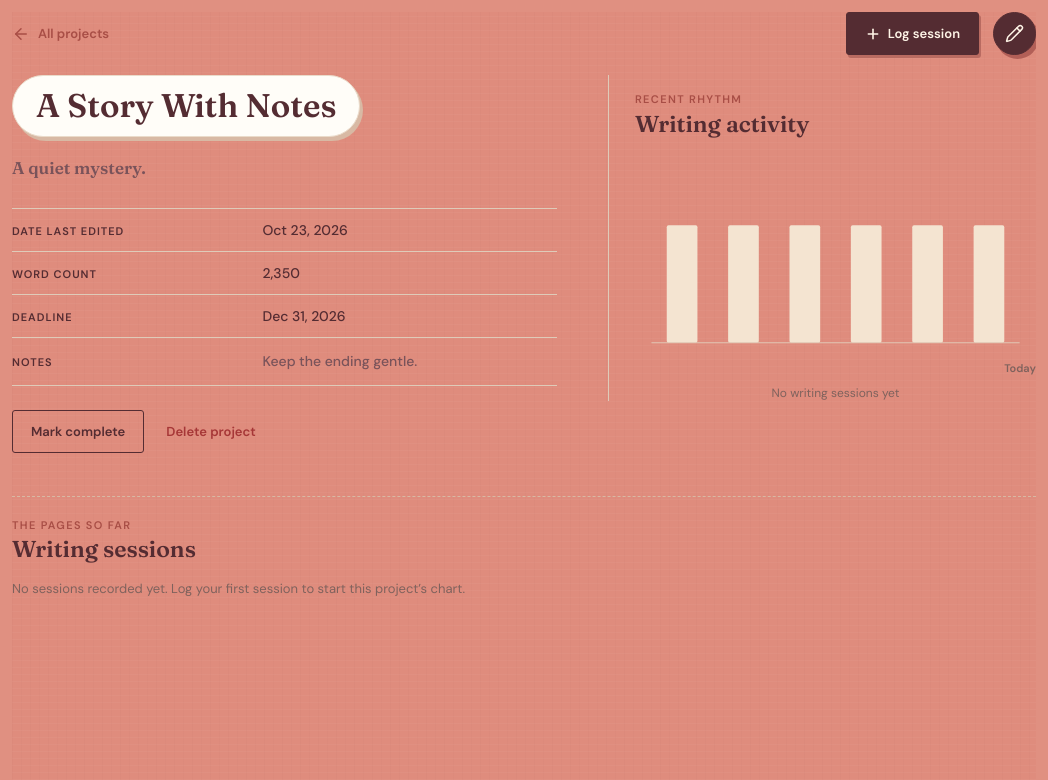
Test: ProjectDetail › reports a failed status change without claiming success
The width and height of the screenshot is (1048, 780).
Click the button "Mark complete" at (78, 431), box [12,410,144,453]
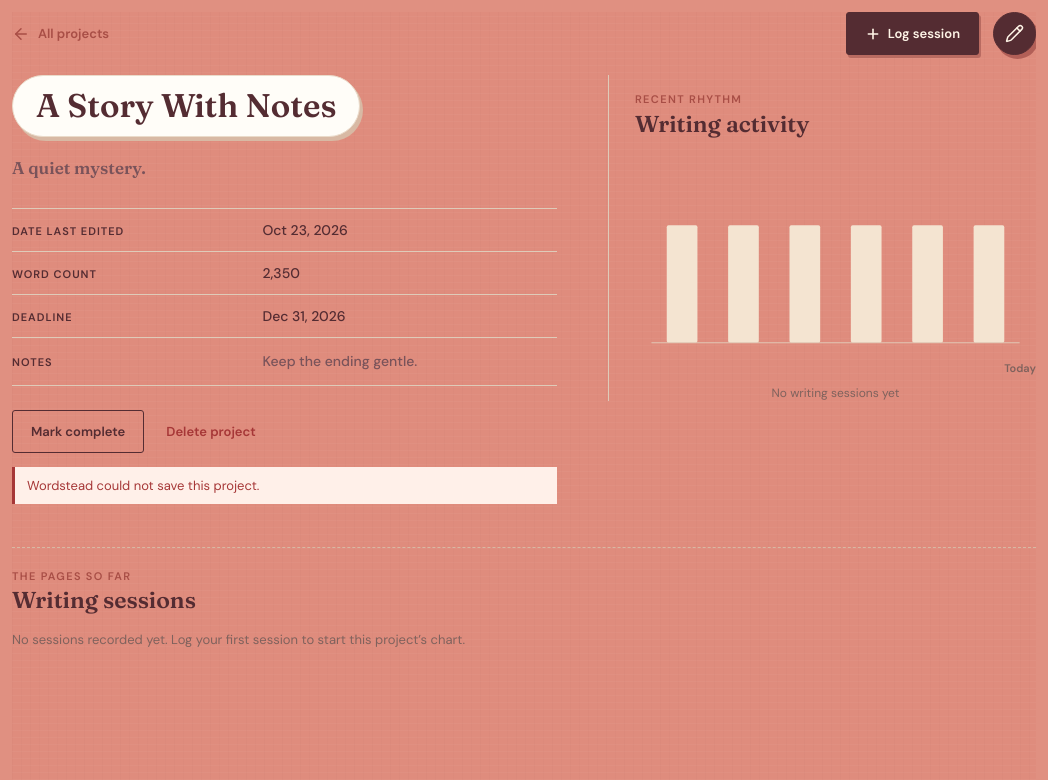
Check: the message reads "Wordstead could not save this project.", box [27,477,259,494]
